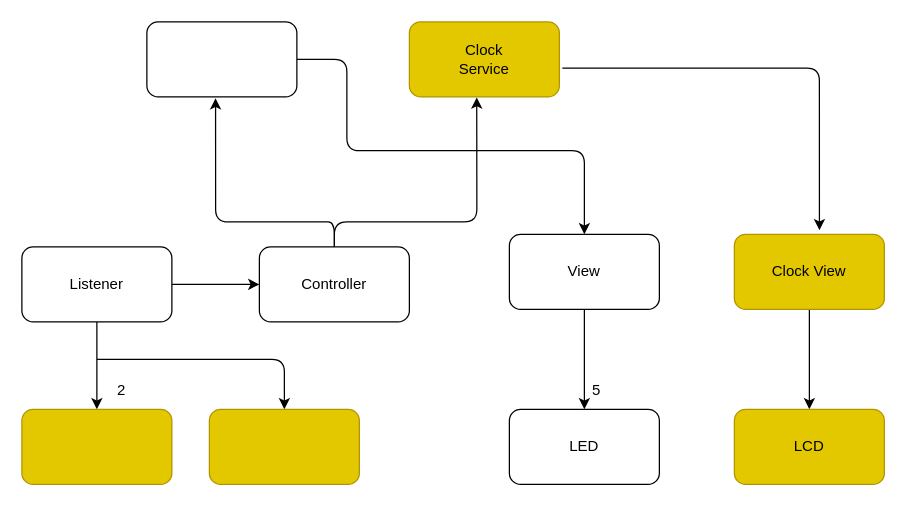
Image size: 906x506. Some labels were removed from this diagram. Each missing label, with the box of its shape:
Button: (21, 408, 172, 484)
Clock: (208, 408, 359, 484)
StandLight Service: (146, 21, 297, 97)
